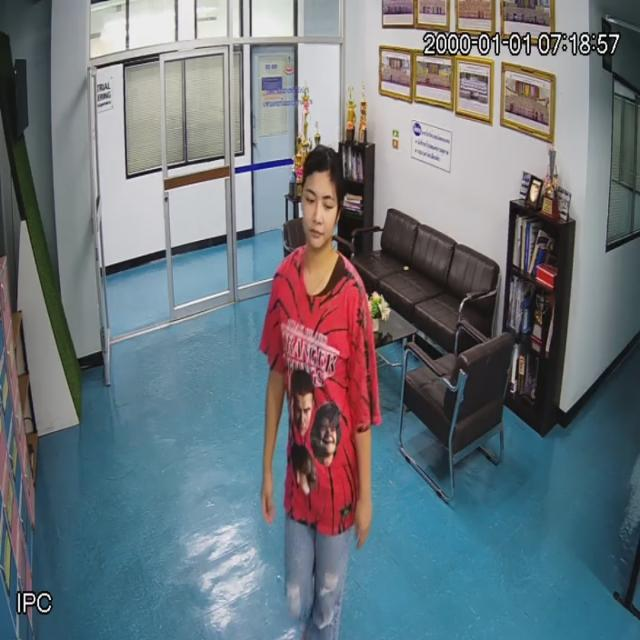normal: (252, 140, 380, 640)
